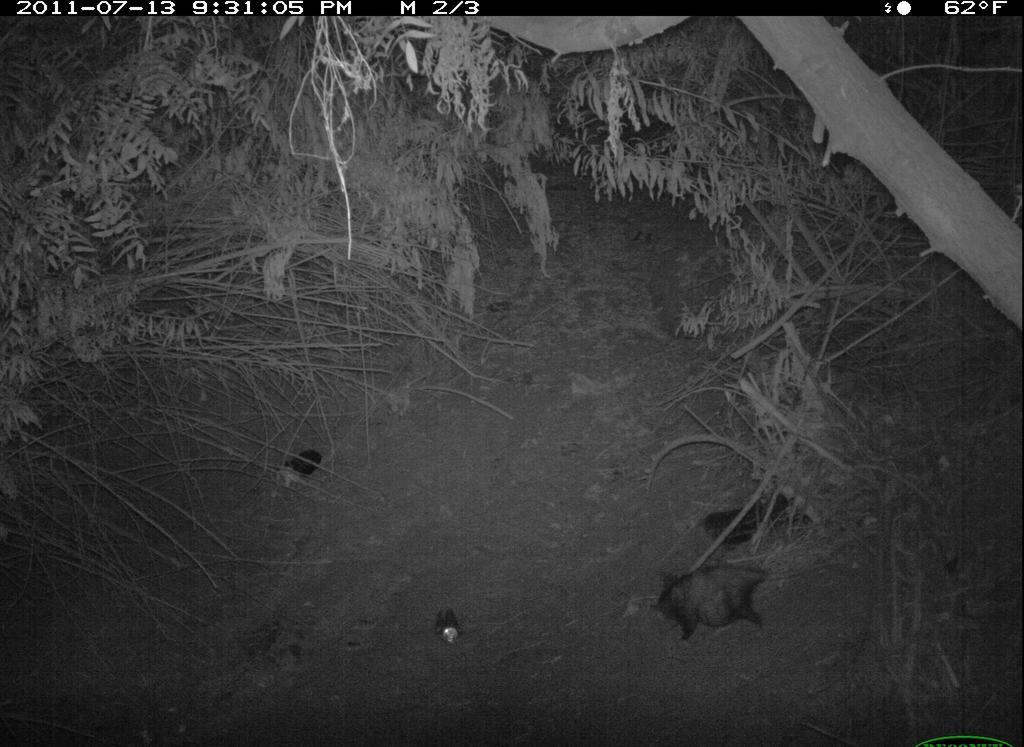opossum: (639, 547, 792, 642)
